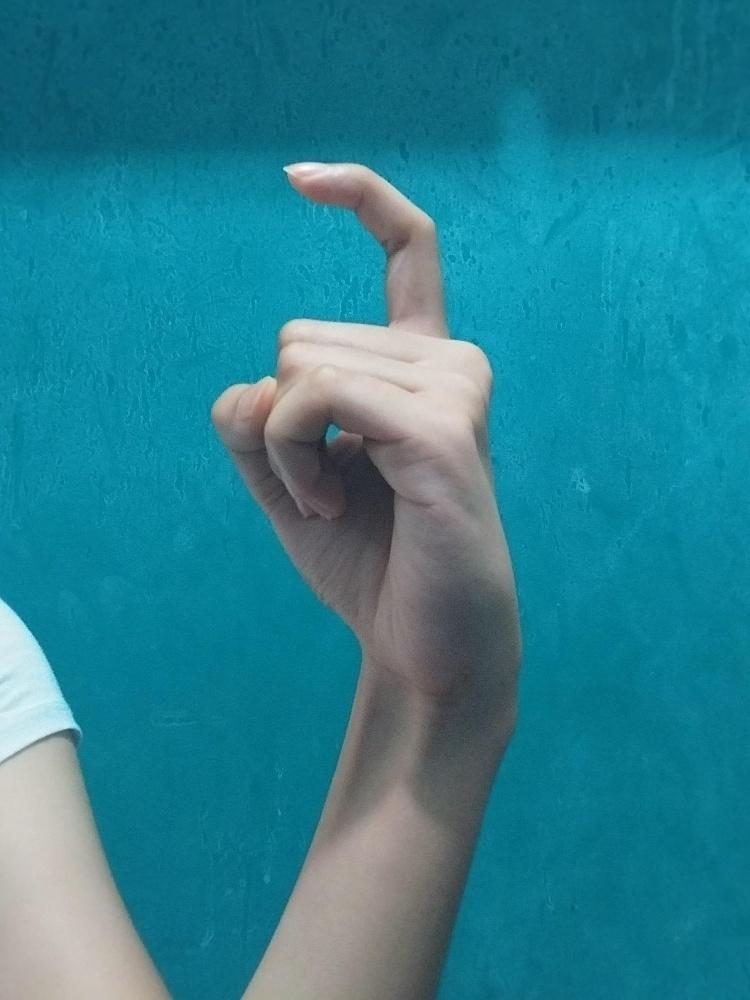x: (208, 158, 520, 720)
